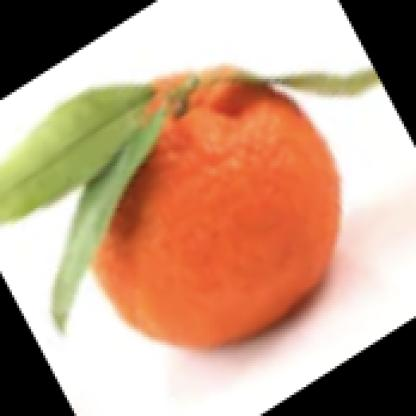fresh: (80, 66, 340, 348)
